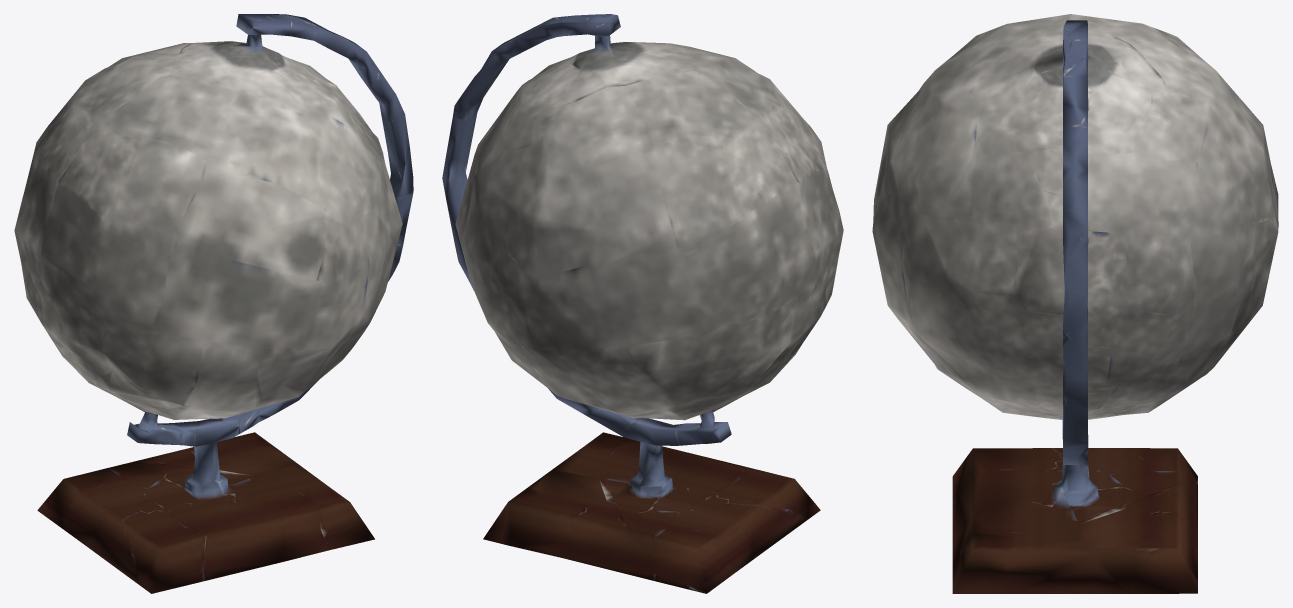
The model's file is luna.glb.
3 views of the same model, side by side, from view 1: azimuth 30°, elevation 25°; view 2: azimuth 150°, elevation 25°; view 3: azimuth 270°, elevation 25° (orthographic). The views are drawn at different scales.
Size of the model in its own units: 1.47 by 1.9 by 1.31.
Materials: 1 (1 with a texture image).
